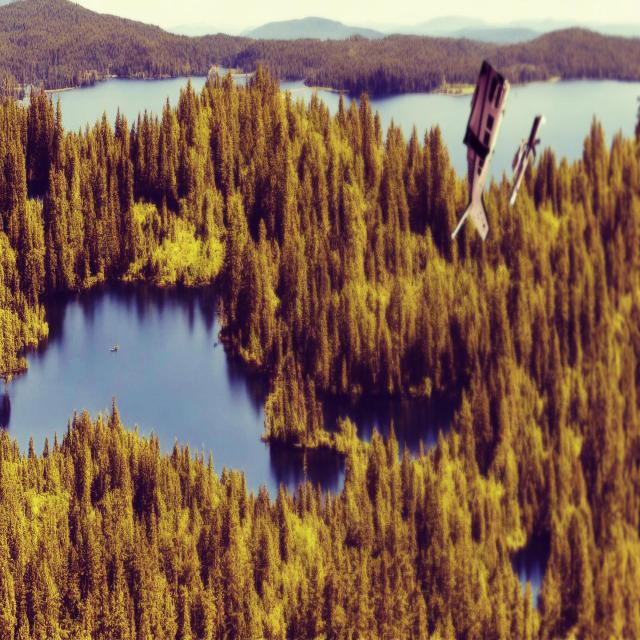airplane: (451, 58, 510, 242), (509, 114, 542, 207)
